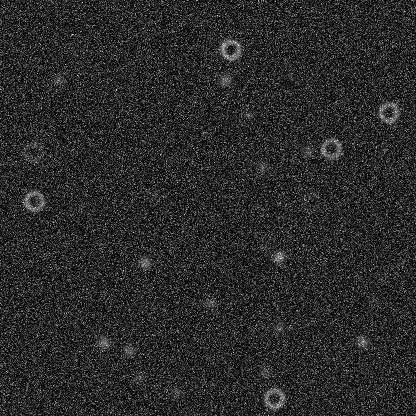Ring: (318, 136, 342, 160), (21, 188, 45, 212), (261, 386, 285, 410), (20, 140, 44, 164), (218, 37, 242, 61), (376, 100, 400, 124), (298, 191, 322, 215)
Spot: (257, 240, 273, 256), (120, 342, 136, 358), (354, 334, 370, 350), (271, 249, 287, 265), (95, 334, 111, 350), (240, 106, 256, 122), (168, 384, 184, 400), (271, 319, 287, 335), (216, 72, 232, 88), (254, 158, 270, 174), (299, 142, 315, 158), (367, 292, 383, 308), (136, 254, 152, 270), (373, 269, 389, 285), (256, 364, 272, 380), (51, 71, 67, 87), (131, 368, 147, 384), (201, 294, 217, 310), (212, 40, 228, 56), (373, 139, 389, 155)
